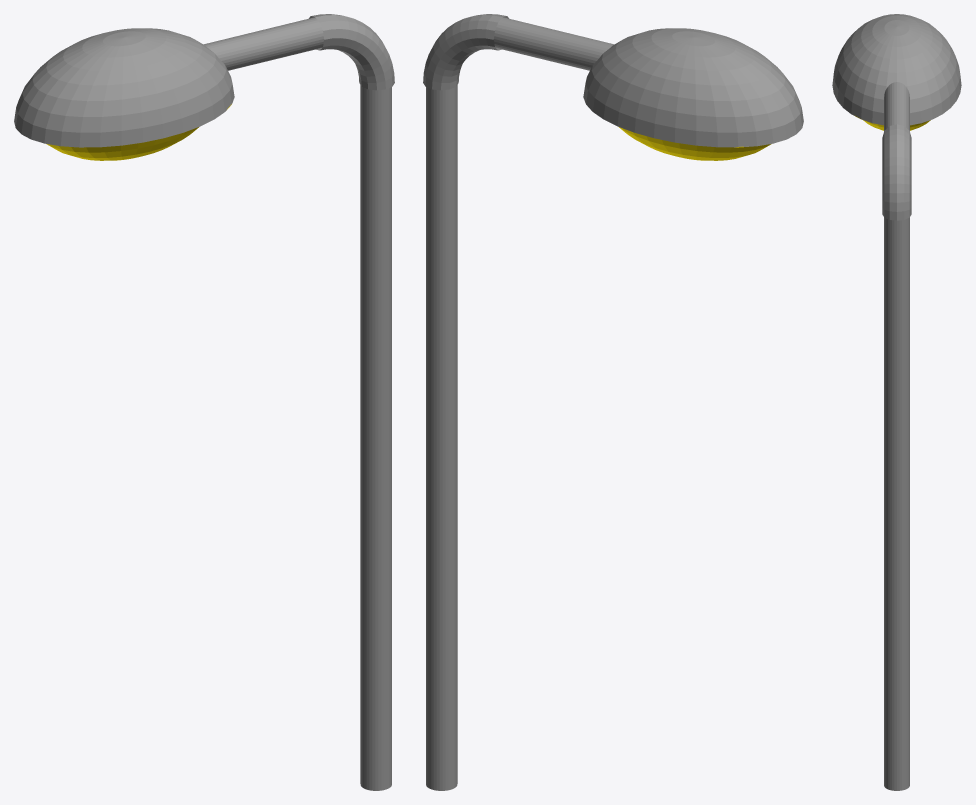
The model's file is Street Lamp.obj.
3 views of the same model, side by side, from view 1: azimuth 30°, elevation 25°; view 2: azimuth 150°, elevation 25°; view 3: azimuth 270°, elevation 25° (orthographic). The views are drawn at different scales.
Visible parts, largest first — view 1: Sphere; view 2: Sphere; view 3: Sphere.
Part boxes in pixels (x1,y1,x2,y2): Sphere: (14,14,394,790); Sphere: (423,14,803,790); Sphere: (832,14,961,790).
Bounding box in the file's own units: 5.41 × 11.25 × 2.
